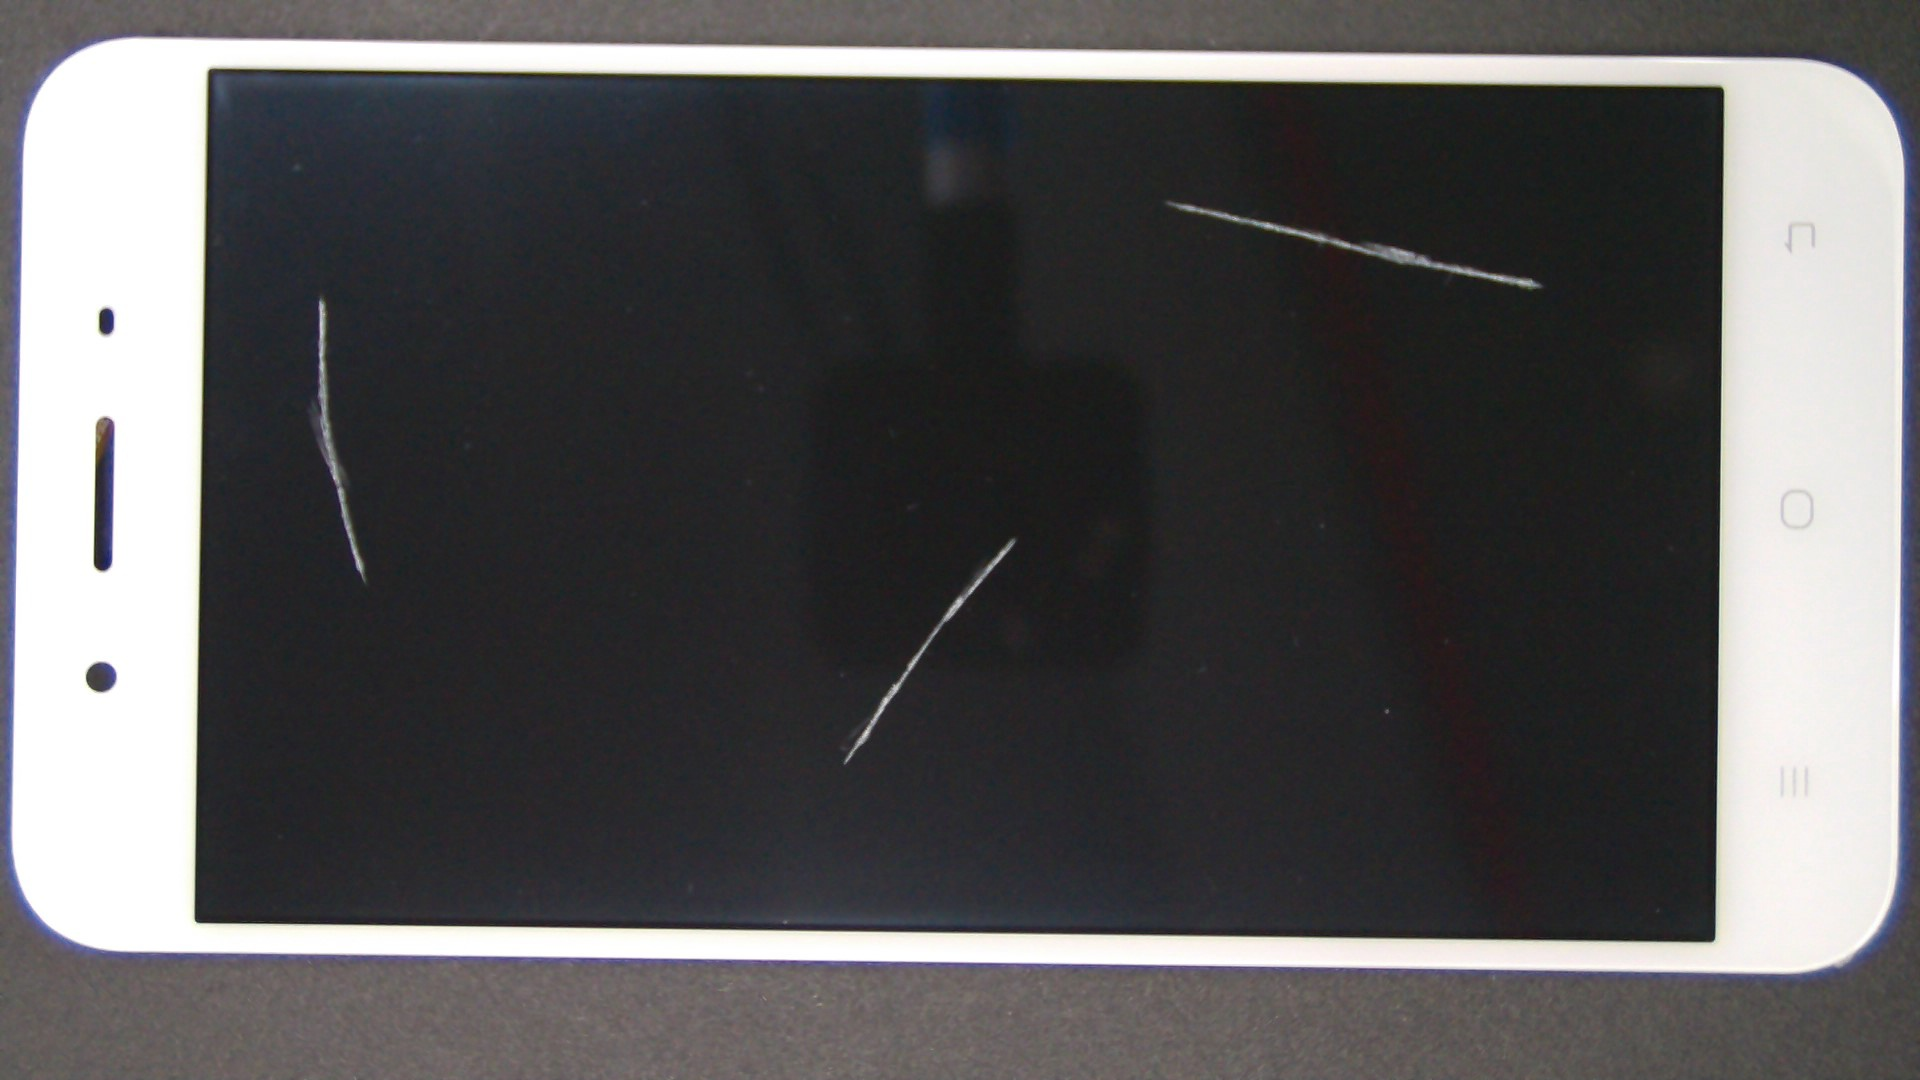oil: (506, 268, 1515, 807), (584, 99, 1751, 299), (162, 146, 480, 447)
